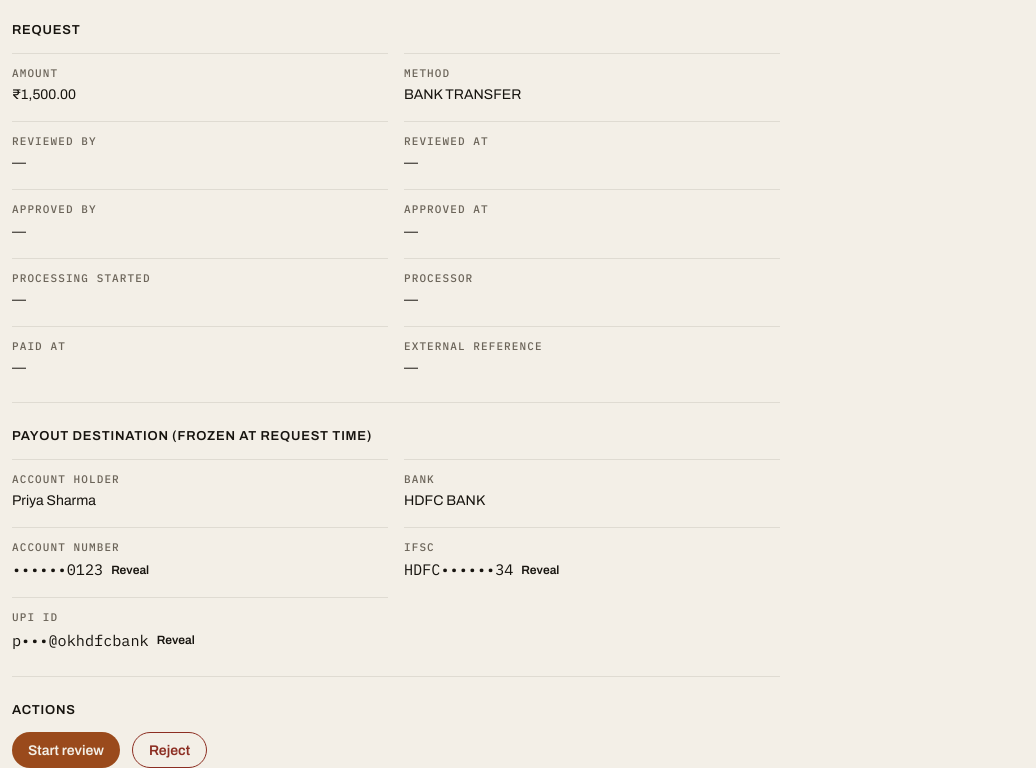
Test case: PayoutDetailPage — masking › masks the account number, IFSC, and UPI ID by default, and reveals on demand
The width and height of the screenshot is (1036, 768).
(page scrolled)
Check: the text "HDFC BANK" is shown, box [404,493,485,508]
Check: the text "1234567890123" is not shown
What coordinates should you click on to do the following:
click the button with aria-label "reveal account number"
I would click on:
 (130, 570)
Its box is [111,561,149,579].
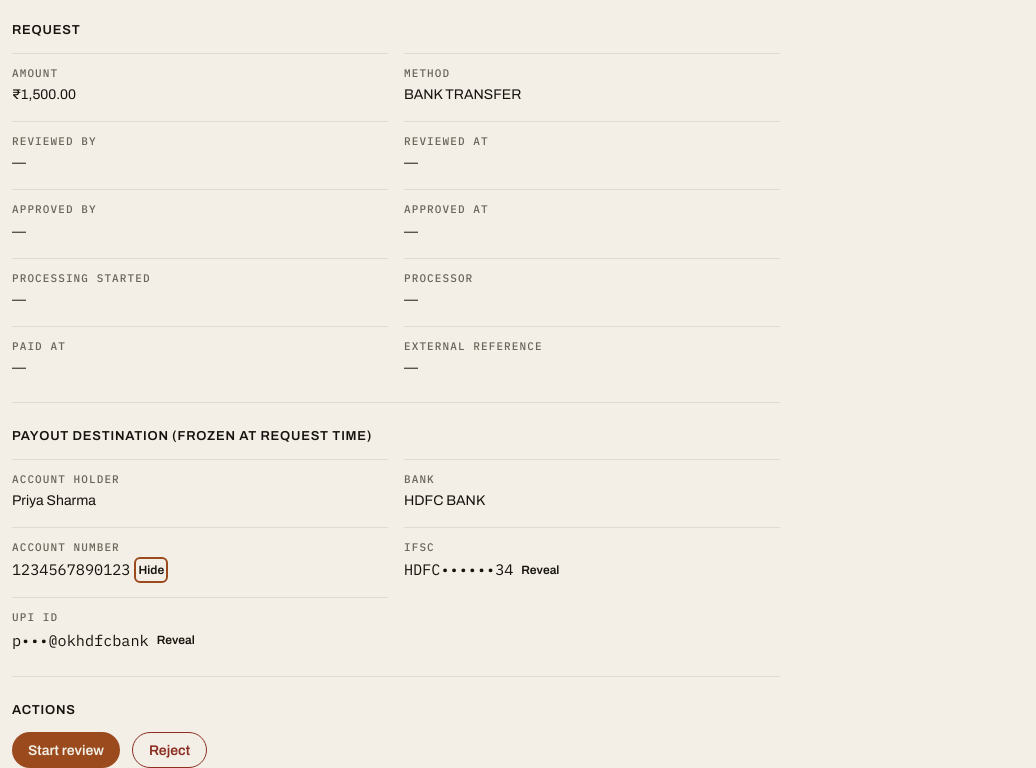
Check: the text "1234567890123" is shown, box [12,558,130,581]
